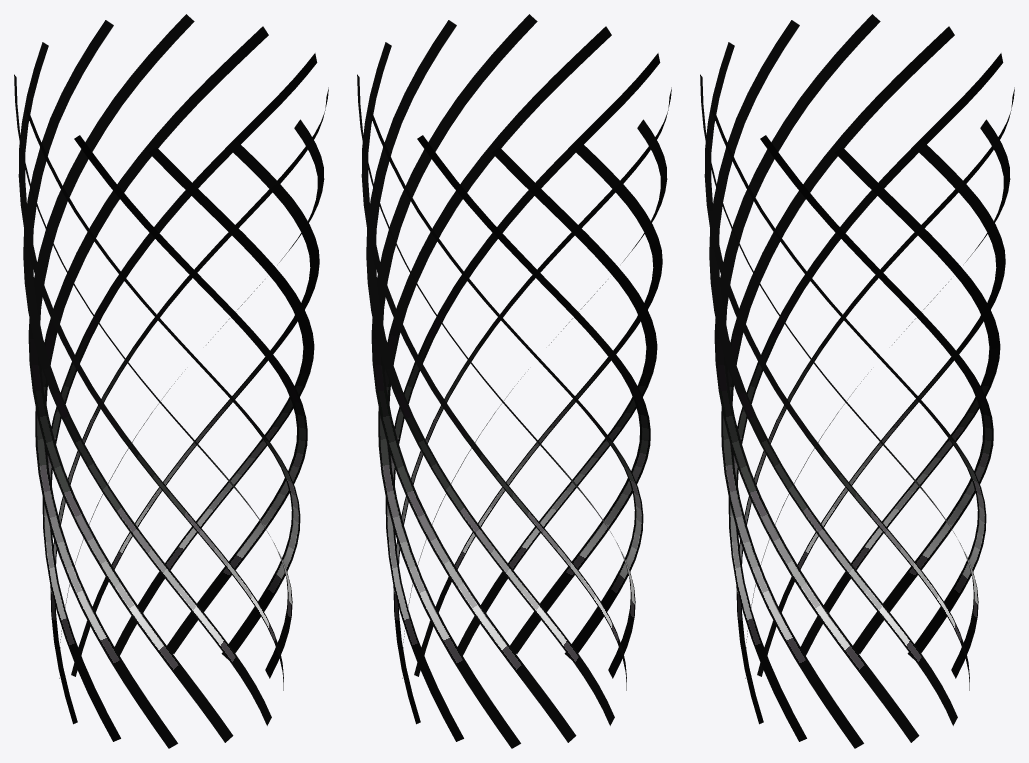
The model's file is effect005.FBX.
The picture shows the model from 3 angles, left to right: view 1: azimuth 30°, elevation 25°; view 2: azimuth 150°, elevation 25°; view 3: azimuth 270°, elevation 25°; orthographic projection.
Parts seen in each view (by area): view 1: Plane006; view 2: Plane006; view 3: Plane006.
Part boxes in pixels (x1,y1,x2,y2): Plane006: (14, 14, 328, 748); Plane006: (357, 14, 671, 748); Plane006: (700, 14, 1014, 748).
Bounding box in the file's own units: 140 × 306 × 140.
